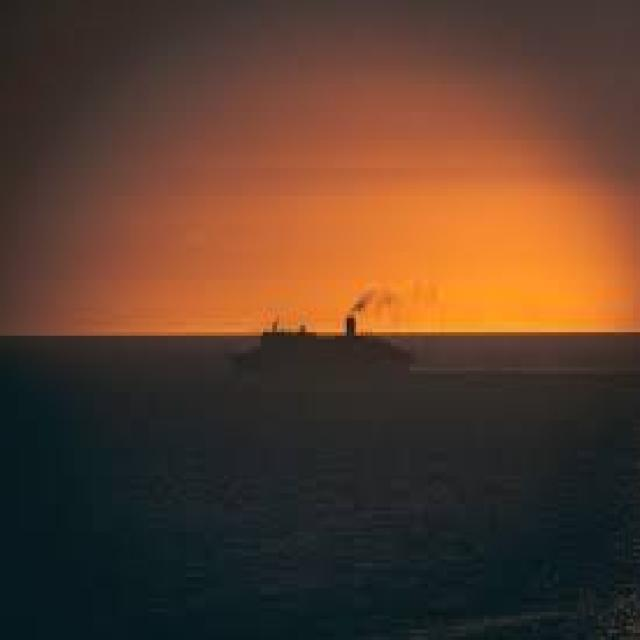cargoship: (206, 283, 422, 384)
